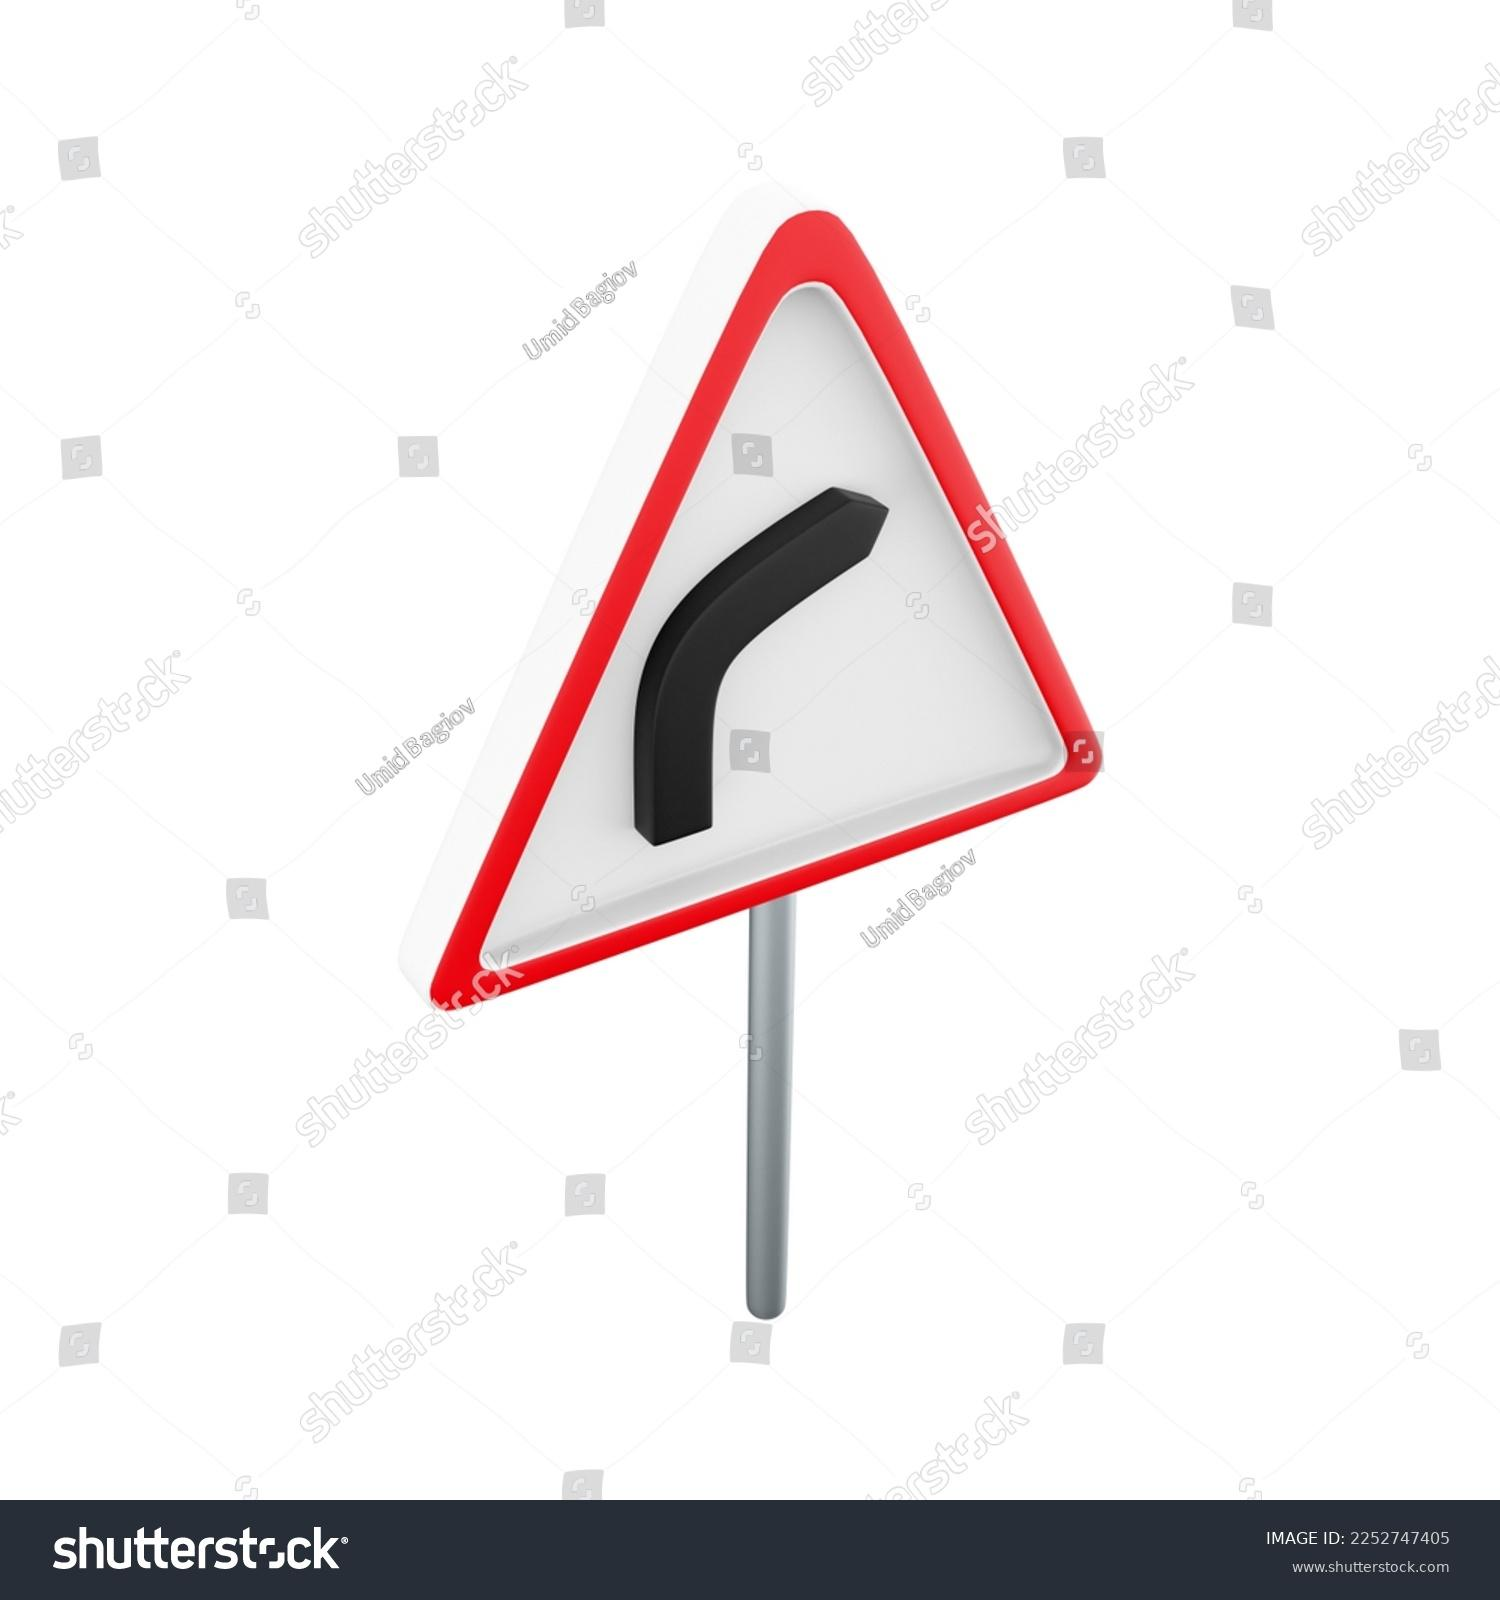Right Hand Curve: (344, 161, 1215, 1317)
